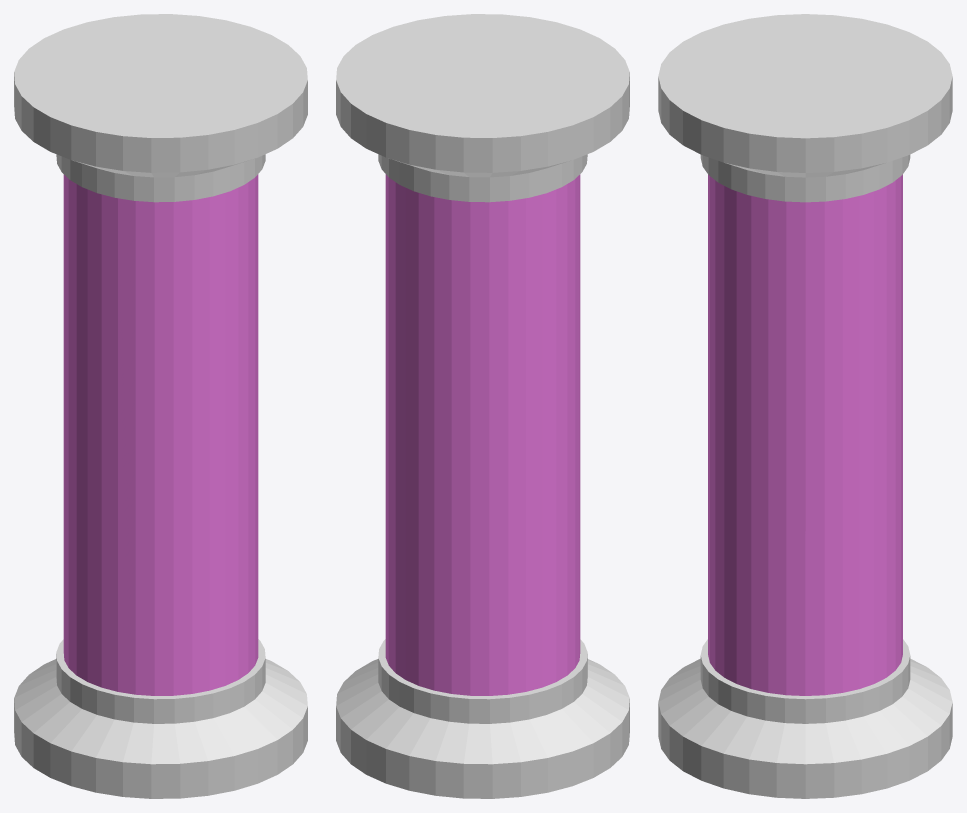
3 renders of one model, left to right at view 1: azimuth 30°, elevation 25°; view 2: azimuth 150°, elevation 25°; view 3: azimuth 270°, elevation 25°, orthographic.
Parts seen in each view (by area): view 1: Cylinder.002, Cylinder.001, Cylinder; view 2: Cylinder.002, Cylinder.001, Cylinder; view 3: Cylinder.002, Cylinder.001, Cylinder.
Part boxes in pixels (bbox=[...]): Cylinder.002: bbox=[63, 174, 258, 695]; Cylinder.001: bbox=[14, 14, 307, 202]; Cylinder: bbox=[14, 639, 307, 798]; Cylinder.002: bbox=[385, 174, 580, 695]; Cylinder.001: bbox=[336, 14, 629, 202]; Cylinder: bbox=[336, 639, 629, 798]; Cylinder.002: bbox=[708, 174, 902, 695]; Cylinder.001: bbox=[658, 14, 952, 202]; Cylinder: bbox=[658, 639, 952, 798].
Size of the model in its own units: 391 by 970 by 391.
